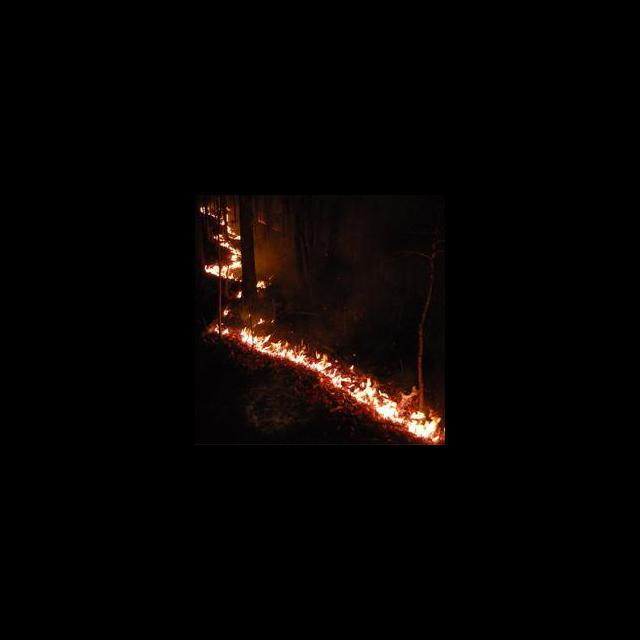Fire: (233, 322, 442, 442), (204, 206, 241, 282), (214, 323, 231, 335), (256, 278, 266, 290), (235, 289, 243, 298), (223, 308, 231, 316)
